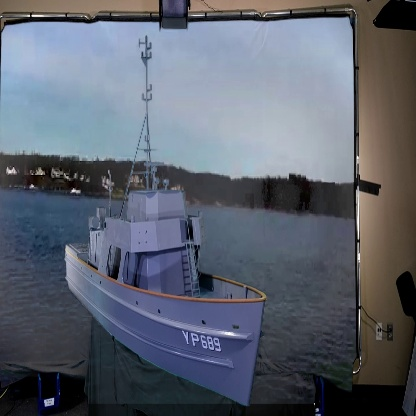YP689: (63, 37, 268, 410)
